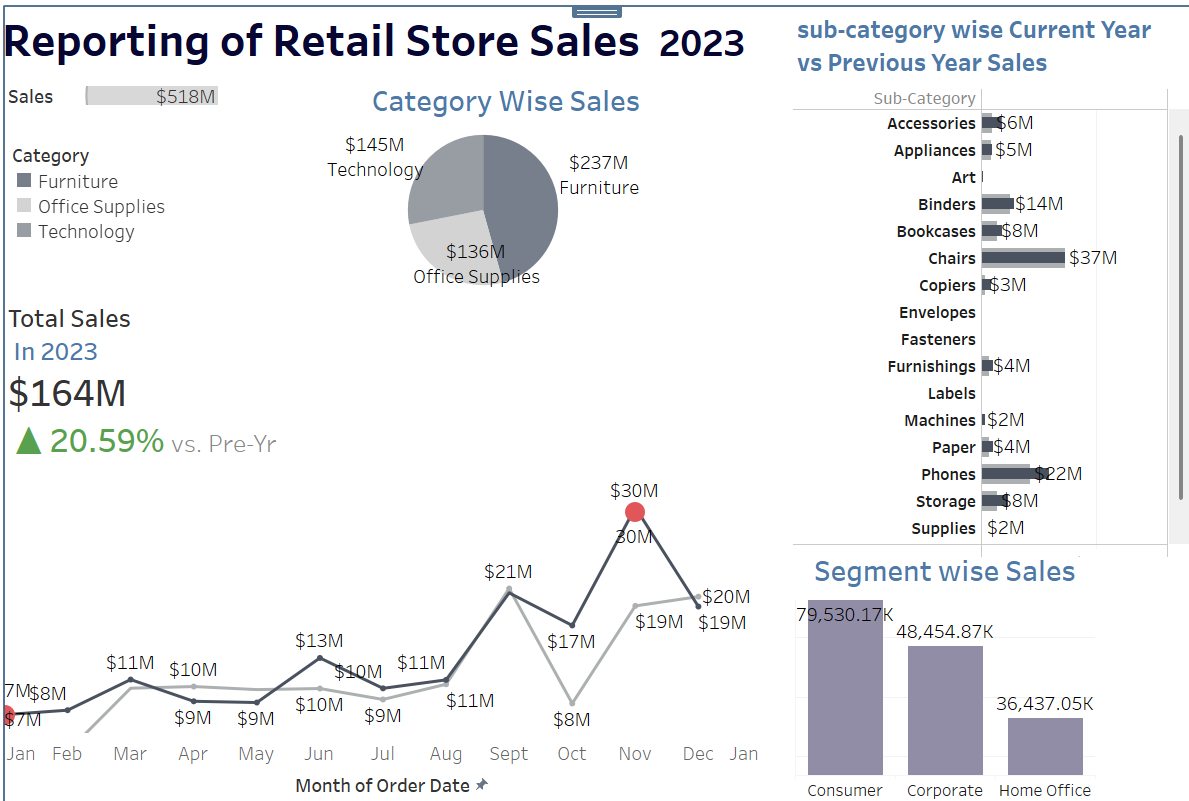

The page's visual inventory and layout, read from the dashboard file:
{"tool":"tableau","page":{"name":"2023","canvas":[1000,1000],"units":"permille","ordinal":0},"visuals":[{"type":"title","box":[0.8,2.9,655.8,49.3]},{"type":"worksheet","title":"sub cat","mark":"Bar","rows":["Sub-Category"],"cols":["CY Sales (copy)_172544202729107459","Calculation_172544202728493058"],"box":[663.3,6.4,333.3,392.9]},{"type":"worksheet","title":"Category sales","mark":"Pie","box":[270,55,330,157.9]},{"type":"legend","title":"Category sales","param":"[federated.0by5wl20xyjd031ai9ivx0p46md0].[sum:Sales:qk]","box":[9.2,60,176.7,19.3]},{"type":"legend","title":"Category sales","param":"[federated.0by5wl20xyjd031ai9ivx0p46md0].[none:Category:nk]","box":[12.5,102.1,132.5,80.7]},{"type":"worksheet","title":"KPI ","mark":"Automatic","rows":["Calculation_172544202777051143"],"cols":["Order Date"],"box":[5.8,212.9,630.8,362.1]},{"type":"worksheet","title":"segments","mark":"Automatic","rows":["Calculation_1224134715835756547"],"cols":["Segment"],"box":[665,390.7,324.2,192.1]}]}

Visuals, with their boxes on the dashboard's canvas, which has no fixed pixel size, in thousandths of its width and height (x1, y1, x2, y2). These are canvas units, not pixel positions in the 1189x801 screenshot, which may show the page scaled, cropped or inside an application window:
title: [1,3,657,52]
"sub cat" worksheet (Bar marks): [663,6,997,399]
"Category sales" worksheet (Pie marks): [270,55,600,213]
"Category sales" legend: [9,60,186,79]
"Category sales" legend: [12,102,145,183]
"KPI " worksheet: [6,213,637,575]
"segments" worksheet: [665,391,989,583]
